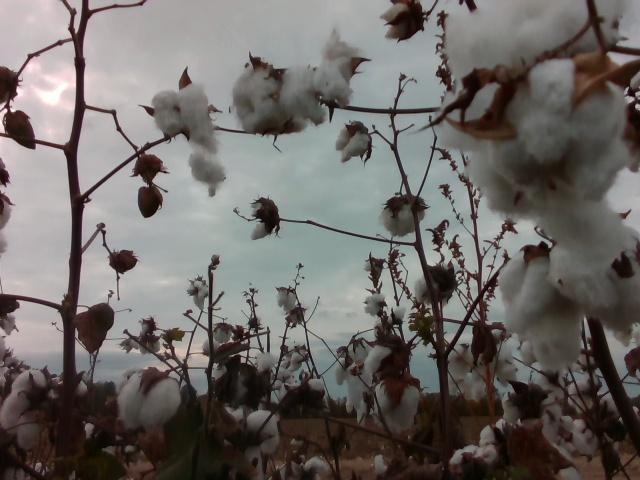cotton_ready: (436, 0, 631, 150), (467, 59, 629, 220), (527, 199, 640, 333), (499, 246, 583, 369), (152, 82, 227, 198), (0, 370, 57, 450), (220, 405, 280, 480), (231, 61, 290, 134), (315, 24, 366, 108), (118, 368, 180, 432), (281, 65, 328, 128), (336, 356, 373, 426), (377, 381, 421, 431), (503, 382, 544, 428), (378, 198, 425, 238), (472, 345, 516, 385), (413, 262, 452, 306), (364, 342, 406, 378), (479, 416, 523, 447), (336, 124, 371, 162), (380, 2, 415, 39), (449, 444, 499, 466), (447, 343, 476, 376), (250, 200, 271, 242)
